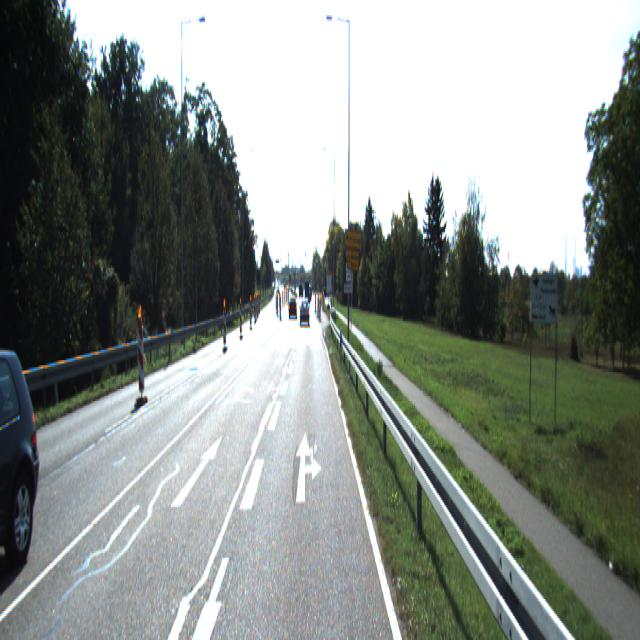Car: (0, 333, 58, 590), (300, 298, 310, 323), (288, 298, 296, 320)
